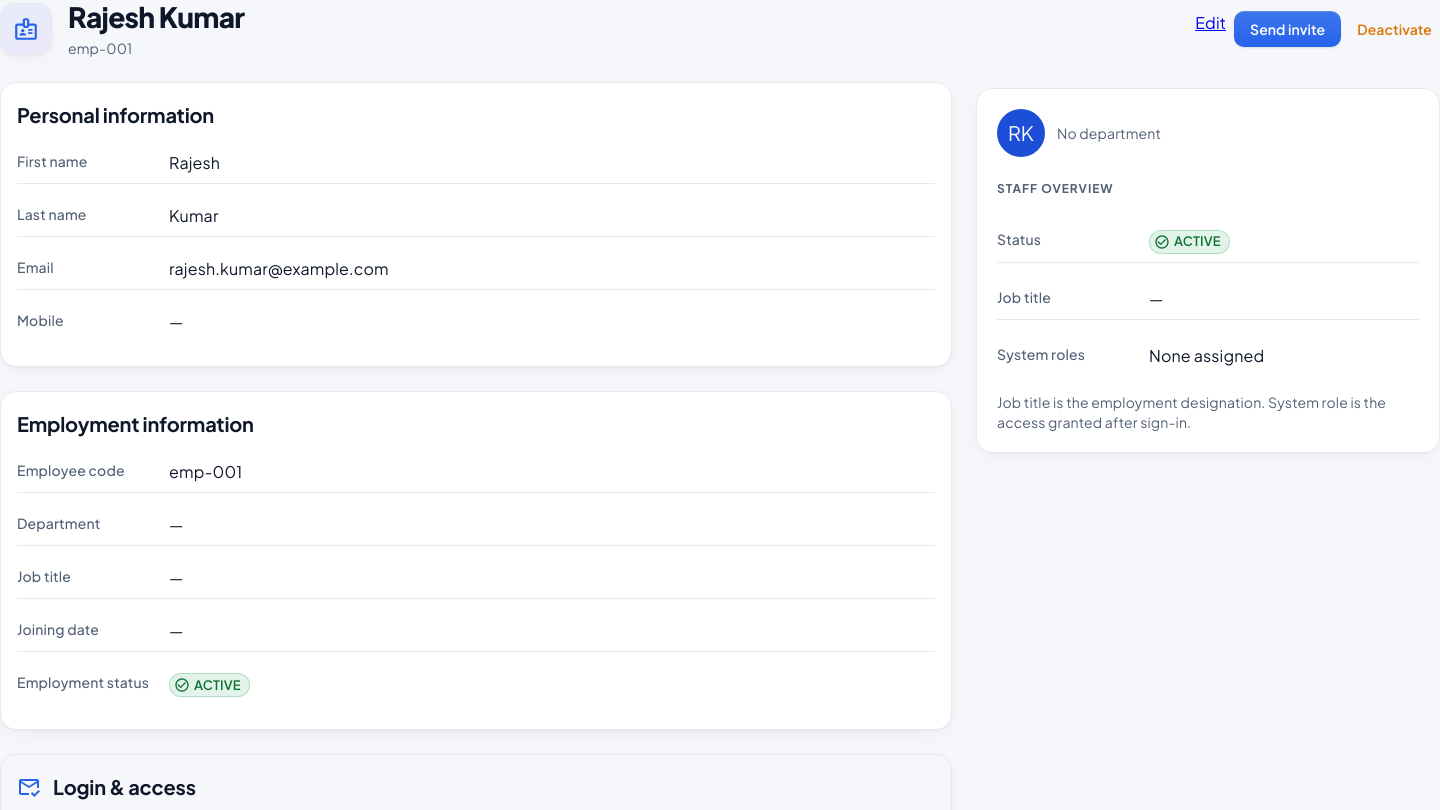
Scenario: StaffDetailPage › shows validation/error state when provisioning fails
Click the button "Send invite" at coordinates (1288, 29), box [1234,10,1341,47]
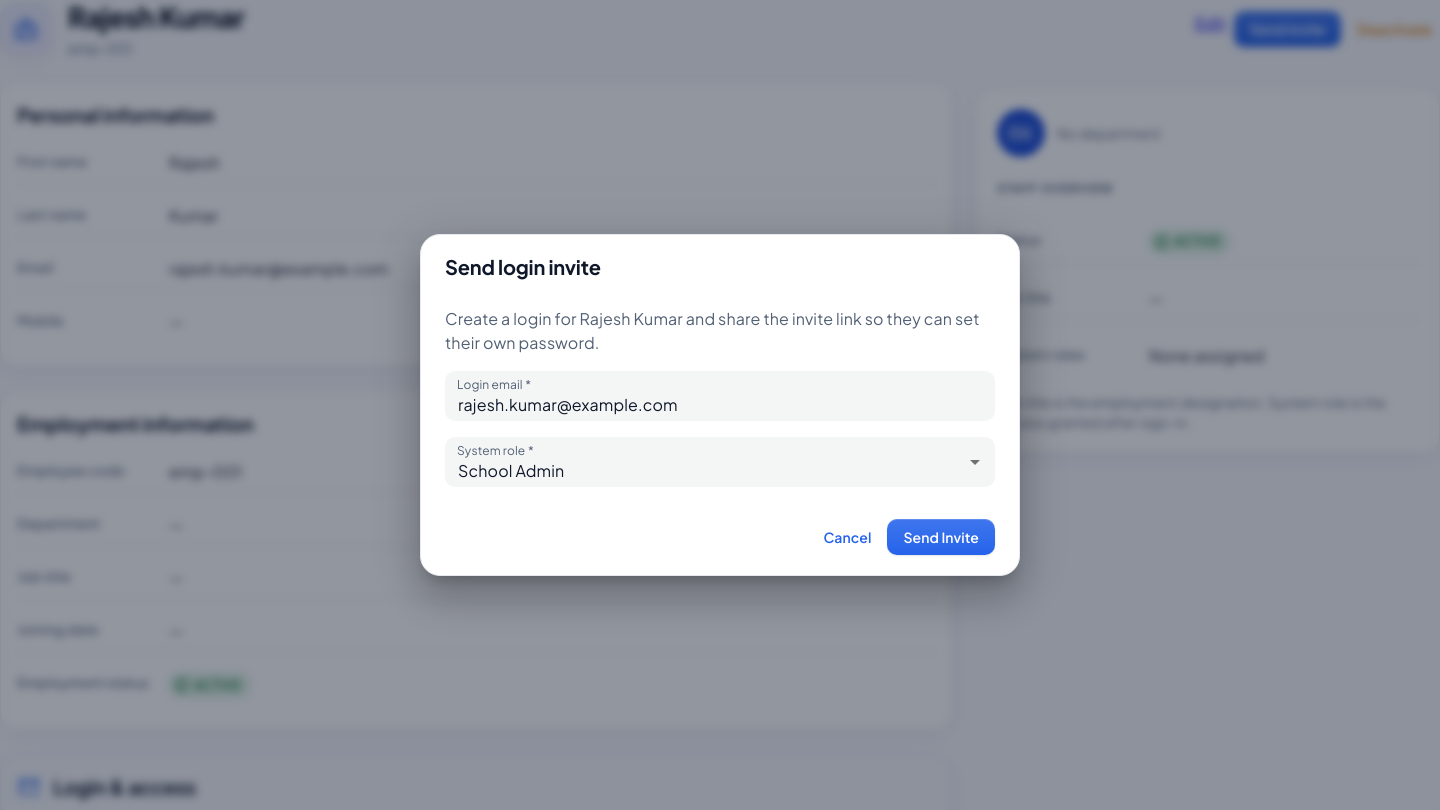
Expected: the heading "Send login invite" is shown, [445,254,601,279]
Click the button "Send Invite" at coordinates (941, 537), box [887,519,995,555]
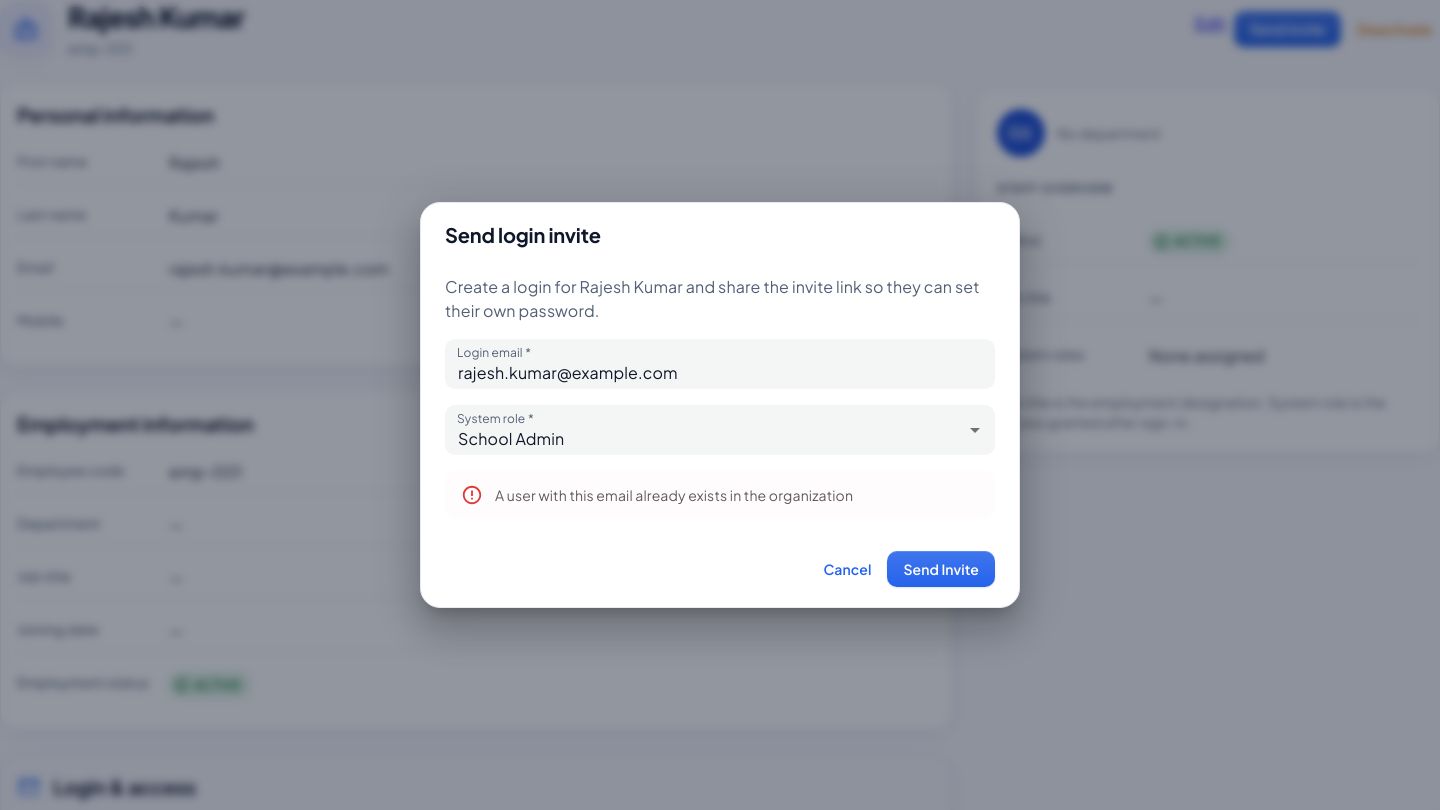
Expected: the text "A user with this email already exists in the organization" is shown, [495,486,853,504]
